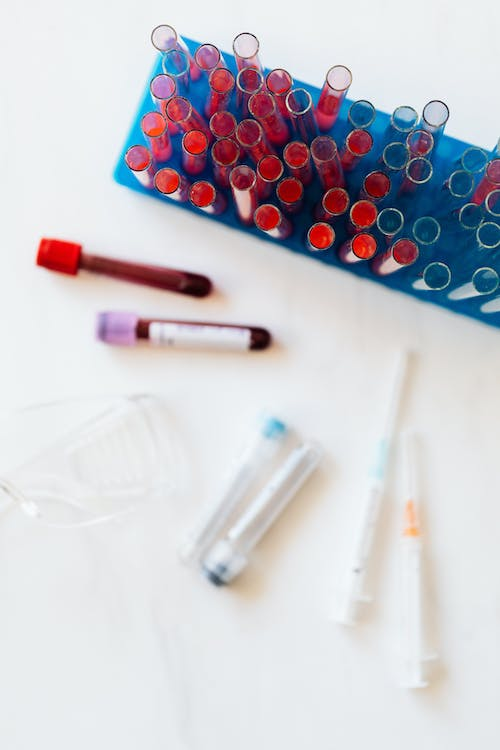blood: (74, 250, 214, 302), (134, 315, 272, 355), (311, 63, 354, 128), (246, 90, 286, 144), (309, 133, 346, 187), (138, 111, 171, 161), (375, 238, 419, 275), (125, 143, 160, 189), (469, 157, 500, 208), (339, 127, 375, 170), (230, 164, 257, 221), (210, 135, 241, 183), (254, 202, 293, 240), (163, 95, 207, 127), (189, 178, 224, 217), (276, 176, 305, 223), (239, 65, 266, 114), (338, 232, 377, 263), (195, 41, 228, 77), (154, 166, 186, 203), (320, 186, 350, 224), (182, 127, 207, 171), (207, 67, 235, 105), (348, 198, 380, 231), (271, 68, 295, 112), (148, 72, 174, 112), (304, 221, 335, 252), (257, 153, 281, 191), (236, 118, 263, 151), (283, 140, 309, 173), (209, 109, 237, 137), (362, 170, 391, 197)
